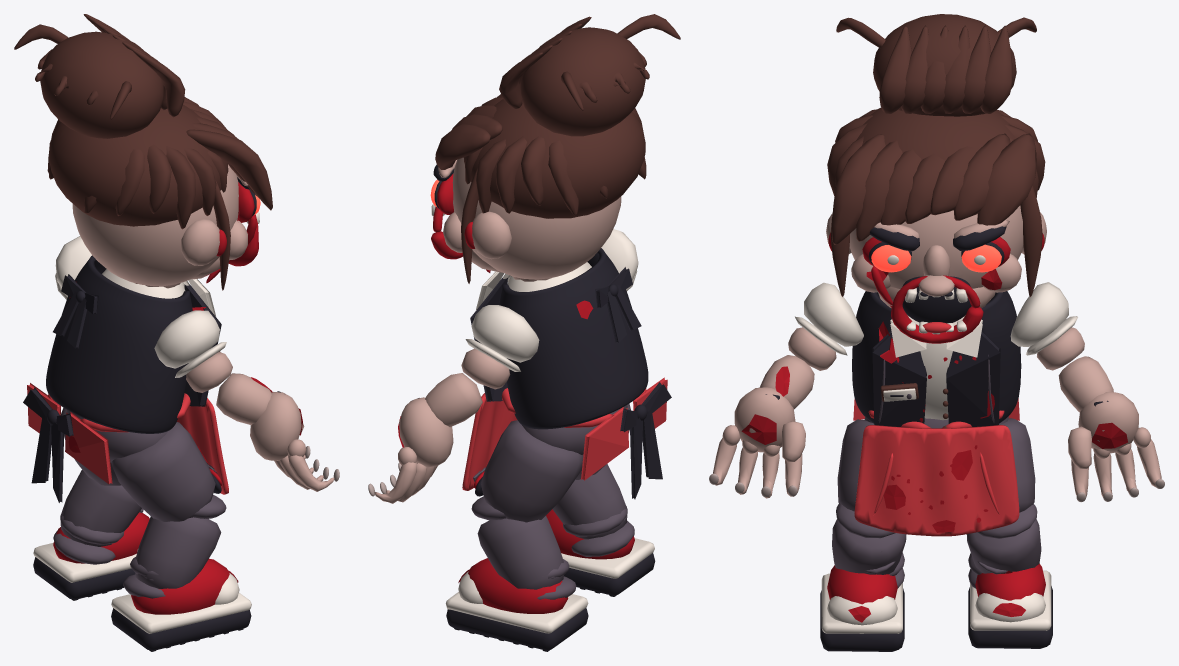
The picture shows the model from 3 angles, left to right: view 1: azimuth 30°, elevation 25°; view 2: azimuth 150°, elevation 25°; view 3: azimuth 270°, elevation 25°; orthographic projection. The views are drawn at different scales.
Parts seen in each view (by area): view 1: head__pal_woodWarm, torso__pal_uiDark, head__pal_infectedSkin, legR__pal_asphalt, shinR__pal_asphalt, shinL__pal_asphalt, hip__pal_survivorRed, handR__pal_infectedSkin, armR__pal_picketWhite, footR__pal_picketWhite, hip__pal_uiDark, footR__pal_blood (+10 smaller); view 2: head__pal_woodWarm, torso__pal_uiDark, head__pal_infectedSkin, legL__pal_asphalt, shinL__pal_asphalt, hip__pal_survivorRed, shinR__pal_asphalt, handL__pal_infectedSkin, armL__pal_picketWhite, hip__pal_uiDark, footL__pal_picketWhite, footL__pal_blood (+10 smaller); view 3: head__pal_woodWarm, hip__pal_survivorRed, torso__pal_uiDark, head__pal_infectedSkin, handR__pal_infectedSkin, handL__pal_infectedSkin, shinR__pal_asphalt, shinL__pal_asphalt, torso__pal_picketWhite, head__pal_blood, head__pal_uiDark, armL__pal_picketWhite (+18 smaller).
Part boxes in pixels (x1=…): head__pal_woodWarm: x1=14, y1=14, x2=272, y2=290; torso__pal_uiDark: x1=46, y1=255, x2=221, y2=433; head__pal_infectedSkin: x1=72, y1=164, x2=248, y2=288; legR__pal_asphalt: x1=111, y1=422, x2=217, y2=521; shinR__pal_asphalt: x1=123, y1=495, x2=226, y2=598; shinL__pal_asphalt: x1=53, y1=470, x2=143, y2=564; hip__pal_survivorRed: x1=27, y1=383, x2=228, y2=494; handR__pal_infectedSkin: x1=250, y1=392, x2=334, y2=491; armR__pal_picketWhite: x1=154, y1=310, x2=226, y2=377; footR__pal_picketWhite: x1=111, y1=573, x2=251, y2=633; hip__pal_uiDark: x1=23, y1=387, x2=73, y2=502; footR__pal_blood: x1=131, y1=558, x2=238, y2=614; head__pal_woodWarm: x1=435, y1=14, x2=680, y2=283; torso__pal_uiDark: x1=470, y1=248, x2=648, y2=429; head__pal_infectedSkin: x1=438, y1=157, x2=621, y2=281; legL__pal_asphalt: x1=473, y1=420, x2=583, y2=522; shinL__pal_asphalt: x1=471, y1=496, x2=576, y2=599; hip__pal_survivorRed: x1=462, y1=377, x2=667, y2=490; shinR__pal_asphalt: x1=552, y1=464, x2=634, y2=556; handL__pal_infectedSkin: x1=374, y1=397, x2=453, y2=503; armL__pal_picketWhite: x1=465, y1=305, x2=539, y2=371; hip__pal_uiDark: x1=620, y1=382, x2=671, y2=499; footL__pal_picketWhite: x1=445, y1=571, x2=588, y2=633; footL__pal_blood: x1=458, y1=558, x2=568, y2=613; head__pal_woodWarm: x1=827, y1=14, x2=1045, y2=296; hip__pal_survivorRed: x1=853, y1=398, x2=1019, y2=536; torso__pal_uiDark: x1=852, y1=291, x2=1021, y2=426; head__pal_infectedSkin: x1=826, y1=205, x2=1046, y2=316; handR__pal_infectedSkin: x1=713, y1=387, x2=805, y2=498; handL__pal_infectedSkin: x1=1068, y1=392, x2=1161, y2=497; shinR__pal_asphalt: x1=832, y1=503, x2=906, y2=588; shinL__pal_asphalt: x1=966, y1=504, x2=1041, y2=588; torso__pal_picketWhite: x1=883, y1=316, x2=982, y2=420; head__pal_blood: x1=828, y1=233, x2=1044, y2=343; head__pal_uiDark: x1=868, y1=226, x2=1006, y2=323; armL__pal_picketWhite: x1=1010, y1=282, x2=1077, y2=355.
Size of what is drawn, in the model's own units: 0.63 by 1.64 by 1.15.
